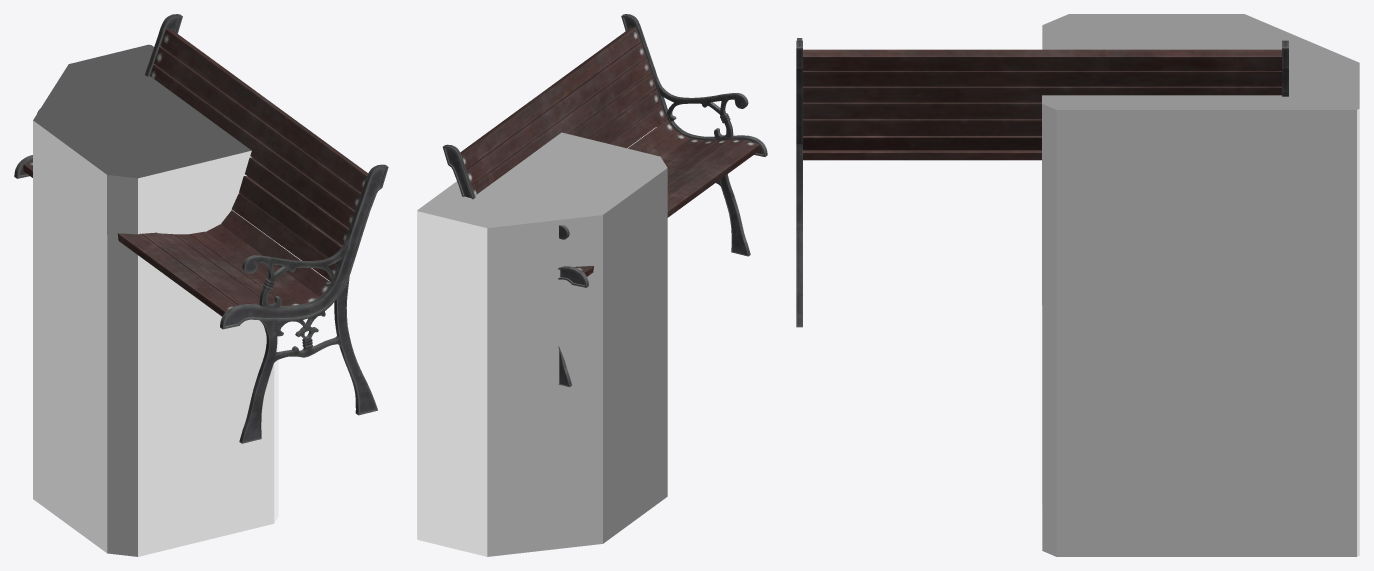
Rendered from SM_Bench_04.fbx.
3 renders of one model, left to right at view 1: azimuth 30°, elevation 25°; view 2: azimuth 150°, elevation 25°; view 3: azimuth 270°, elevation 25°, orthographic. The views are drawn at different scales.
Parts seen in each view (by area): view 1: SM_Bench_04_ConvexHulls, SM_Bench_04_LOD0; view 2: SM_Bench_04_ConvexHulls, SM_Bench_04_LOD0; view 3: SM_Bench_04_ConvexHulls, SM_Bench_04_LOD0.
Part boxes in pixels (x1,y1,x2,y2): SM_Bench_04_ConvexHulls: [33, 44, 278, 556]; SM_Bench_04_LOD0: [14, 14, 388, 443]; SM_Bench_04_ConvexHulls: [417, 132, 667, 556]; SM_Bench_04_LOD0: [442, 14, 767, 387]; SM_Bench_04_ConvexHulls: [1042, 14, 1359, 556]; SM_Bench_04_LOD0: [796, 38, 1288, 327].
Size of the model in its own units: 62.67 by 156 by 156.
